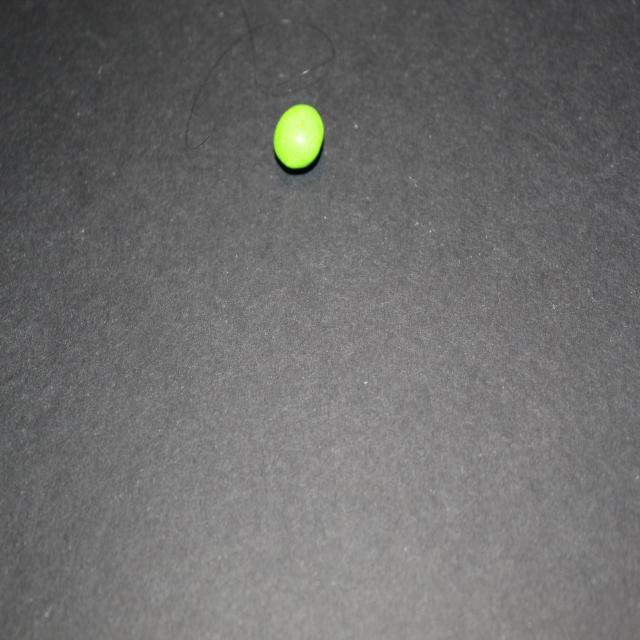smartie: (273, 103, 324, 168)
